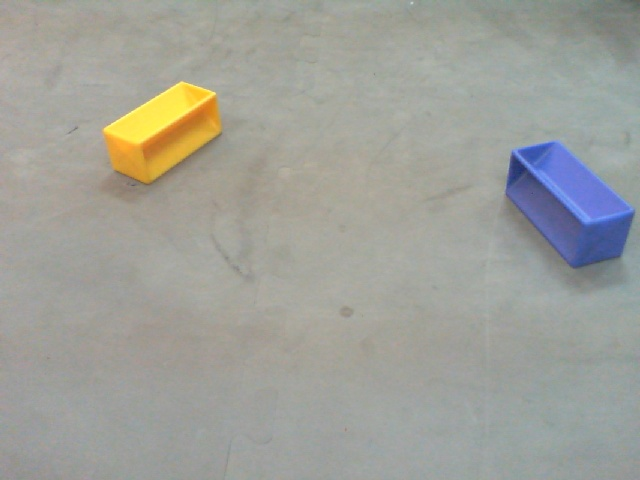BlueSample: (502, 136, 636, 272)
YellowSample: (97, 78, 224, 186)
